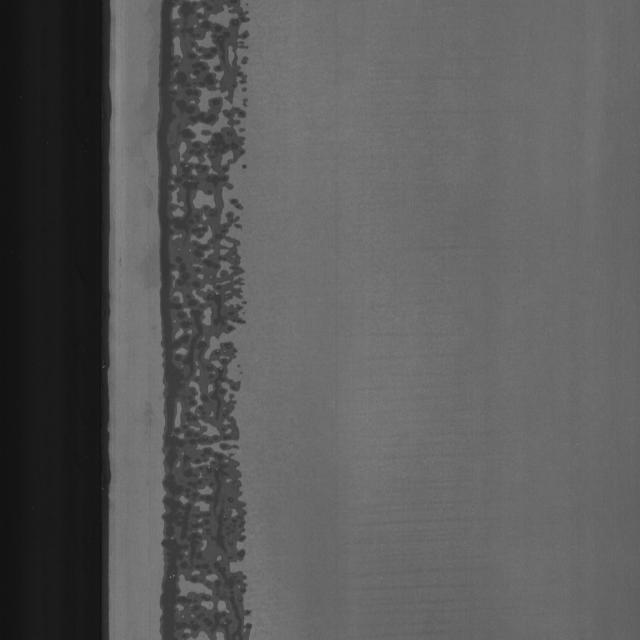welding_line: (147, 10, 276, 640)
